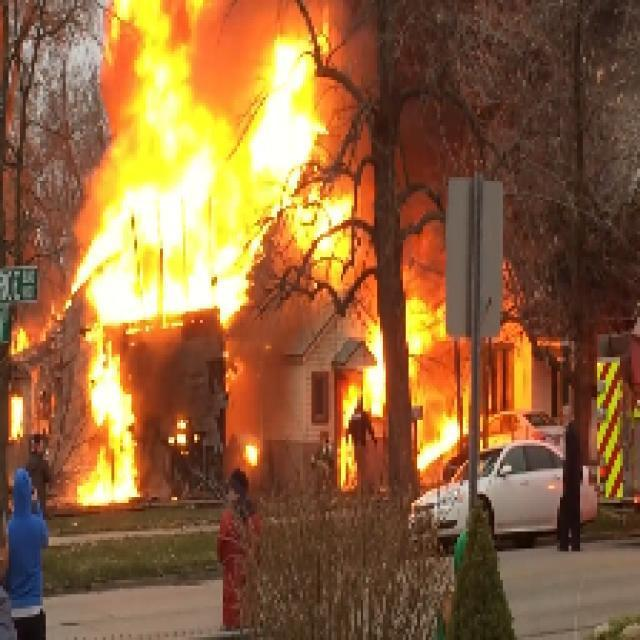Fire: (87, 0, 296, 296), (403, 306, 442, 374)
